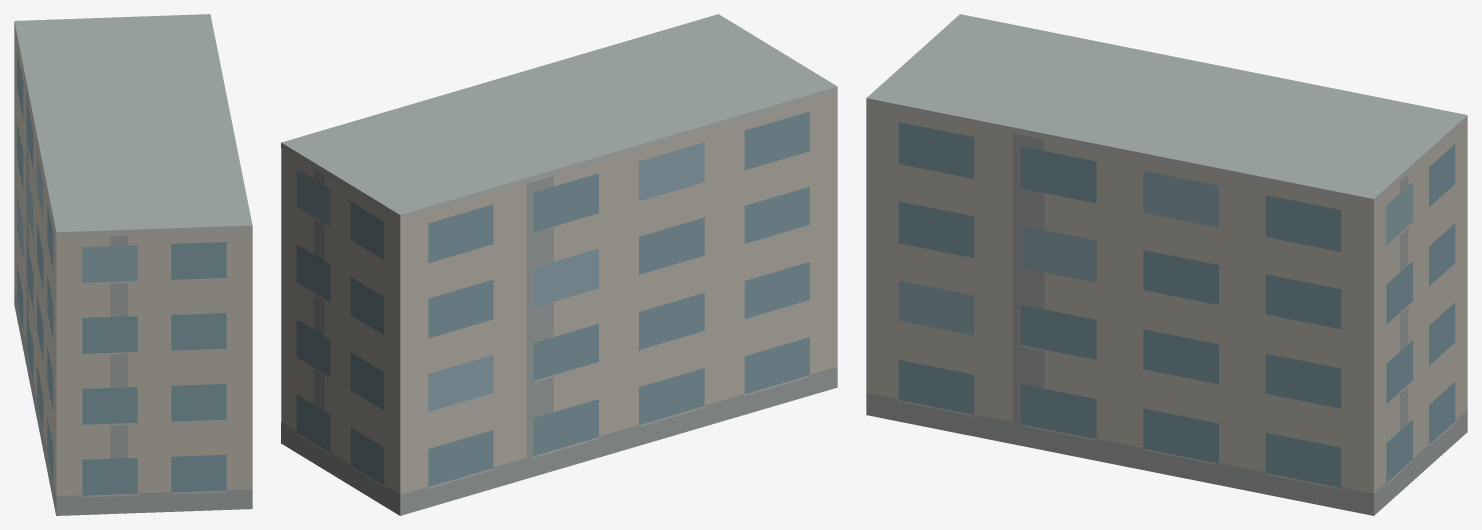
The model's file is residential-8148eed7-72d5-4fad-8fee-82f25f6e1d9b.glb.
3 renders of one model, left to right at view 1: azimuth 30°, elevation 25°; view 2: azimuth 150°, elevation 25°; view 3: azimuth 270°, elevation 25°, orthographic. The views are drawn at different scales.
Parts seen in each view (by area): view 1: residential-8148eed7-72d5-4fad-8fee-82f25f6e1d9b.tmp; view 2: residential-8148eed7-72d5-4fad-8fee-82f25f6e1d9b.tmp; view 3: residential-8148eed7-72d5-4fad-8fee-82f25f6e1d9b.tmp.
Part boxes in pixels (x1,y1,x2,y2): residential-8148eed7-72d5-4fad-8fee-82f25f6e1d9b.tmp: (14, 14, 252, 515); residential-8148eed7-72d5-4fad-8fee-82f25f6e1d9b.tmp: (281, 14, 837, 515); residential-8148eed7-72d5-4fad-8fee-82f25f6e1d9b.tmp: (866, 14, 1467, 515).
Bounding box in the file's own units: 15.29 × 12.2 × 20.99.
